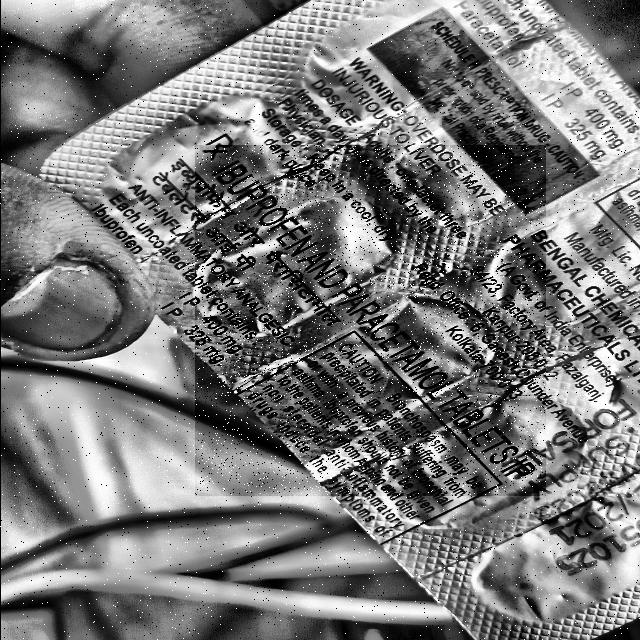IBUPROFEN AND PARACETAMOL TABLETS: (194, 146, 544, 495)
